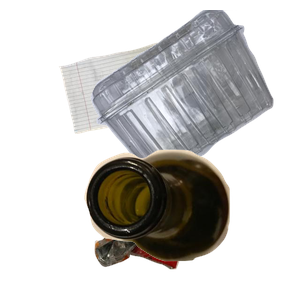glass: (82, 147, 300, 300)
paper: (56, 40, 229, 166)
plastic: (88, 10, 300, 180)
trash: (92, 174, 272, 300)
